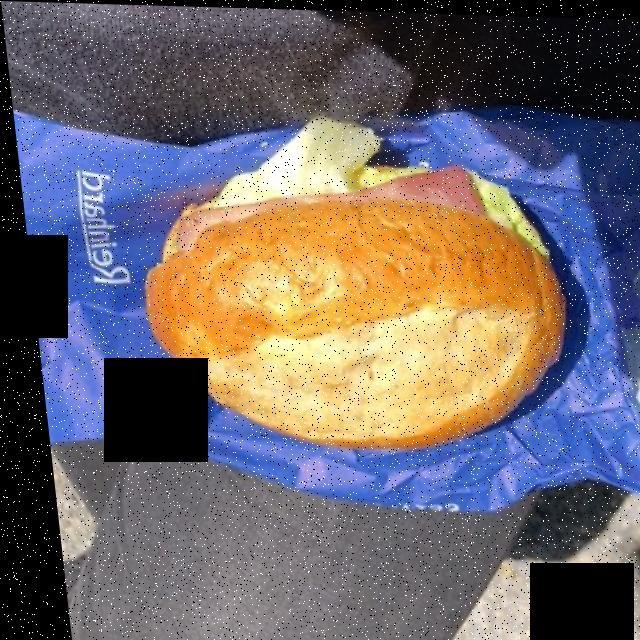salad: (210, 117, 542, 239)
sandwich: (160, 159, 540, 435)
